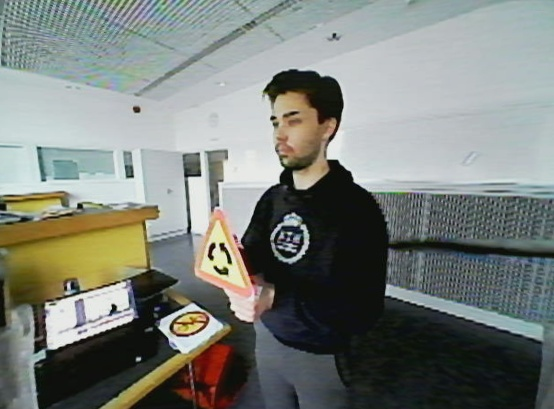roundabout_warning: (191, 209, 256, 304)
